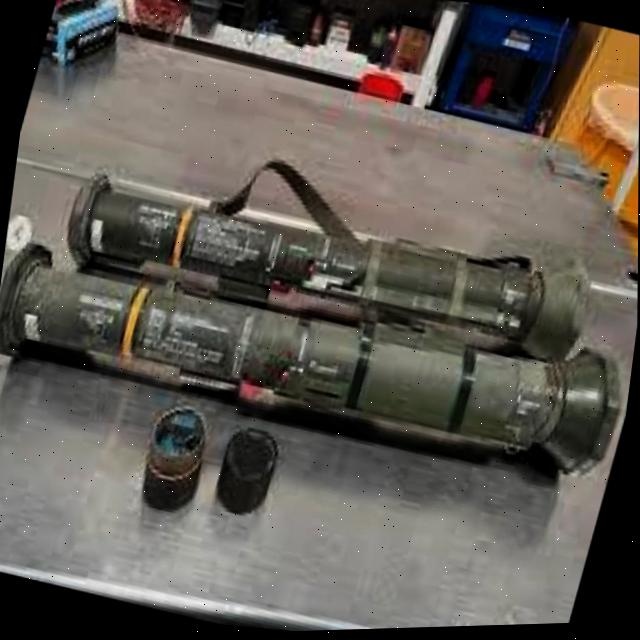rocket: (0, 125, 639, 502)
